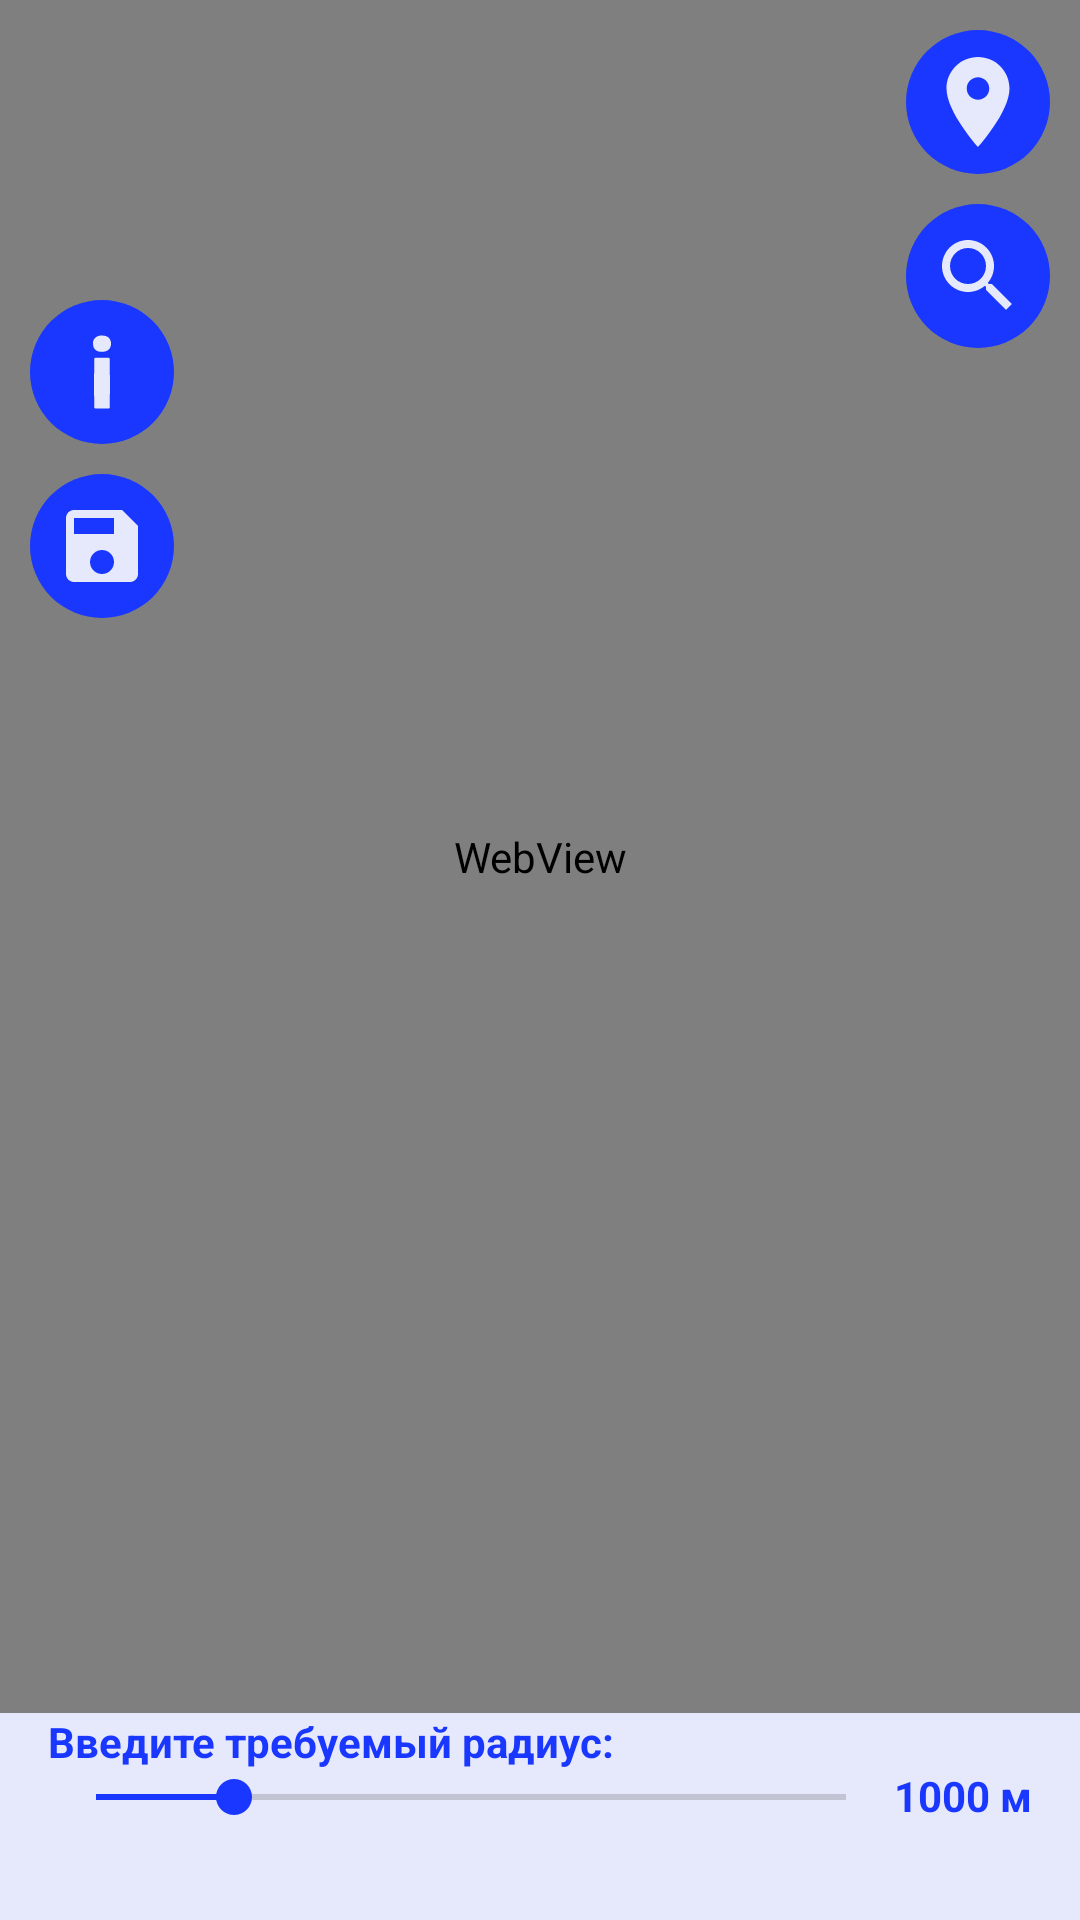

Point at icon controls on the screen. Image size 1080 x 1920, points as [x,y].
geo: [978,102]
save: [102,546]
search: [978,276]
